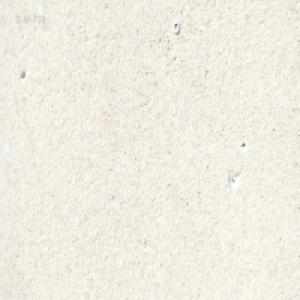Washer: (172, 20, 179, 34)
